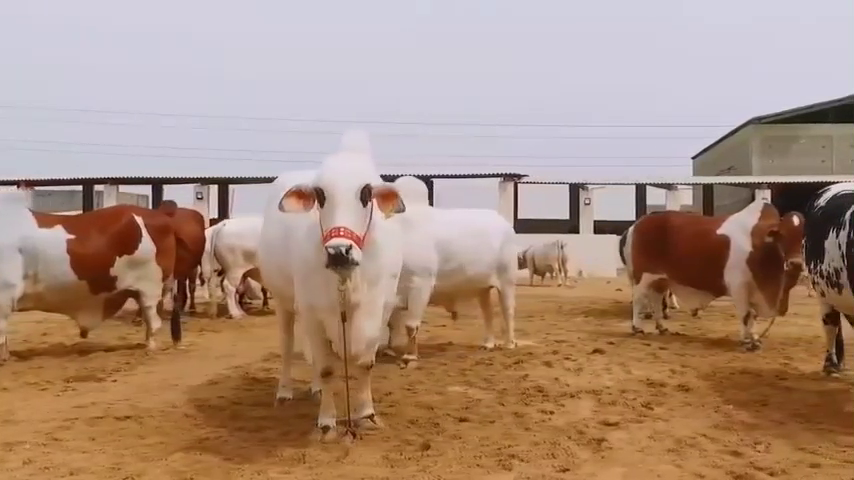bo: (254, 124, 398, 447), (2, 176, 186, 364), (613, 183, 810, 357), (389, 172, 526, 373), (802, 153, 854, 397), (199, 198, 266, 332), (511, 223, 577, 292)
